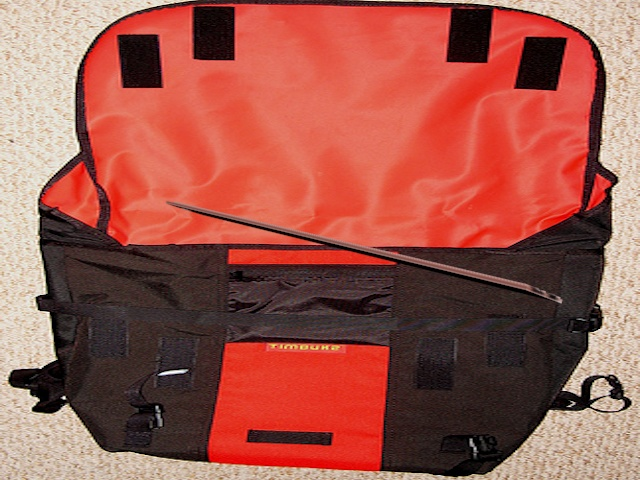ruler: (160, 192, 576, 305)
